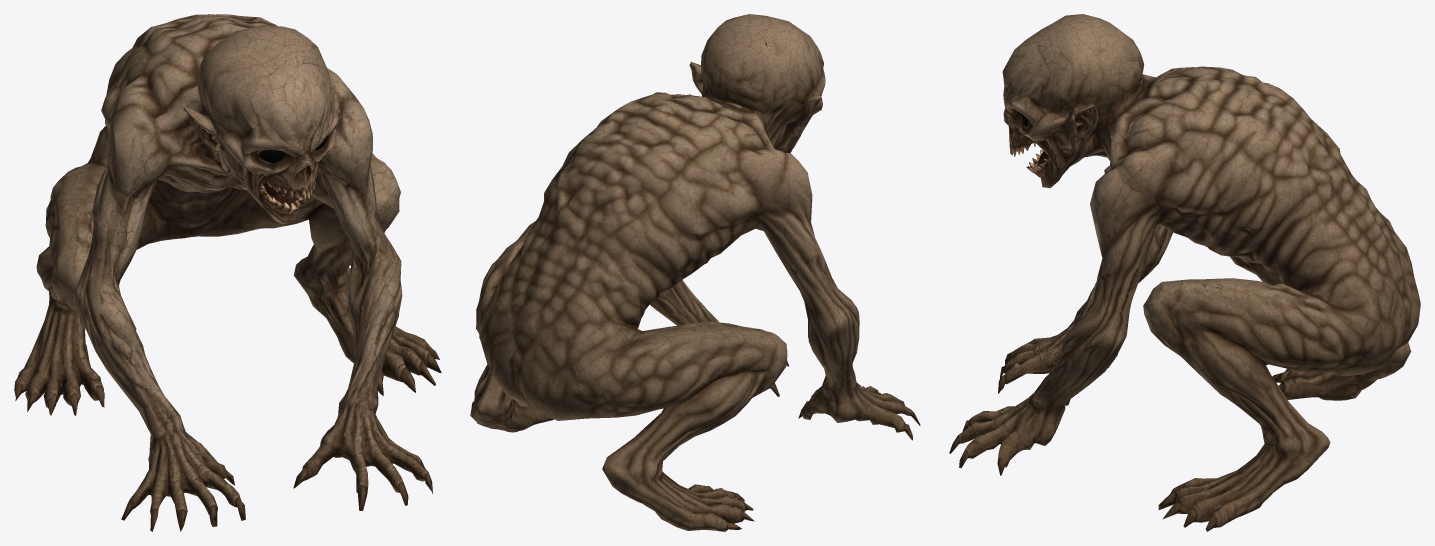
File: crawler-hi.glb
The picture shows the model from 3 angles, left to right: view 1: azimuth 30°, elevation 25°; view 2: azimuth 150°, elevation 25°; view 3: azimuth 270°, elevation 25°; orthographic projection. The views are drawn at different scales.
Bounding box in the file's own units: 1.71 × 1.78 × 1.9.
1 material, 1 textured.
